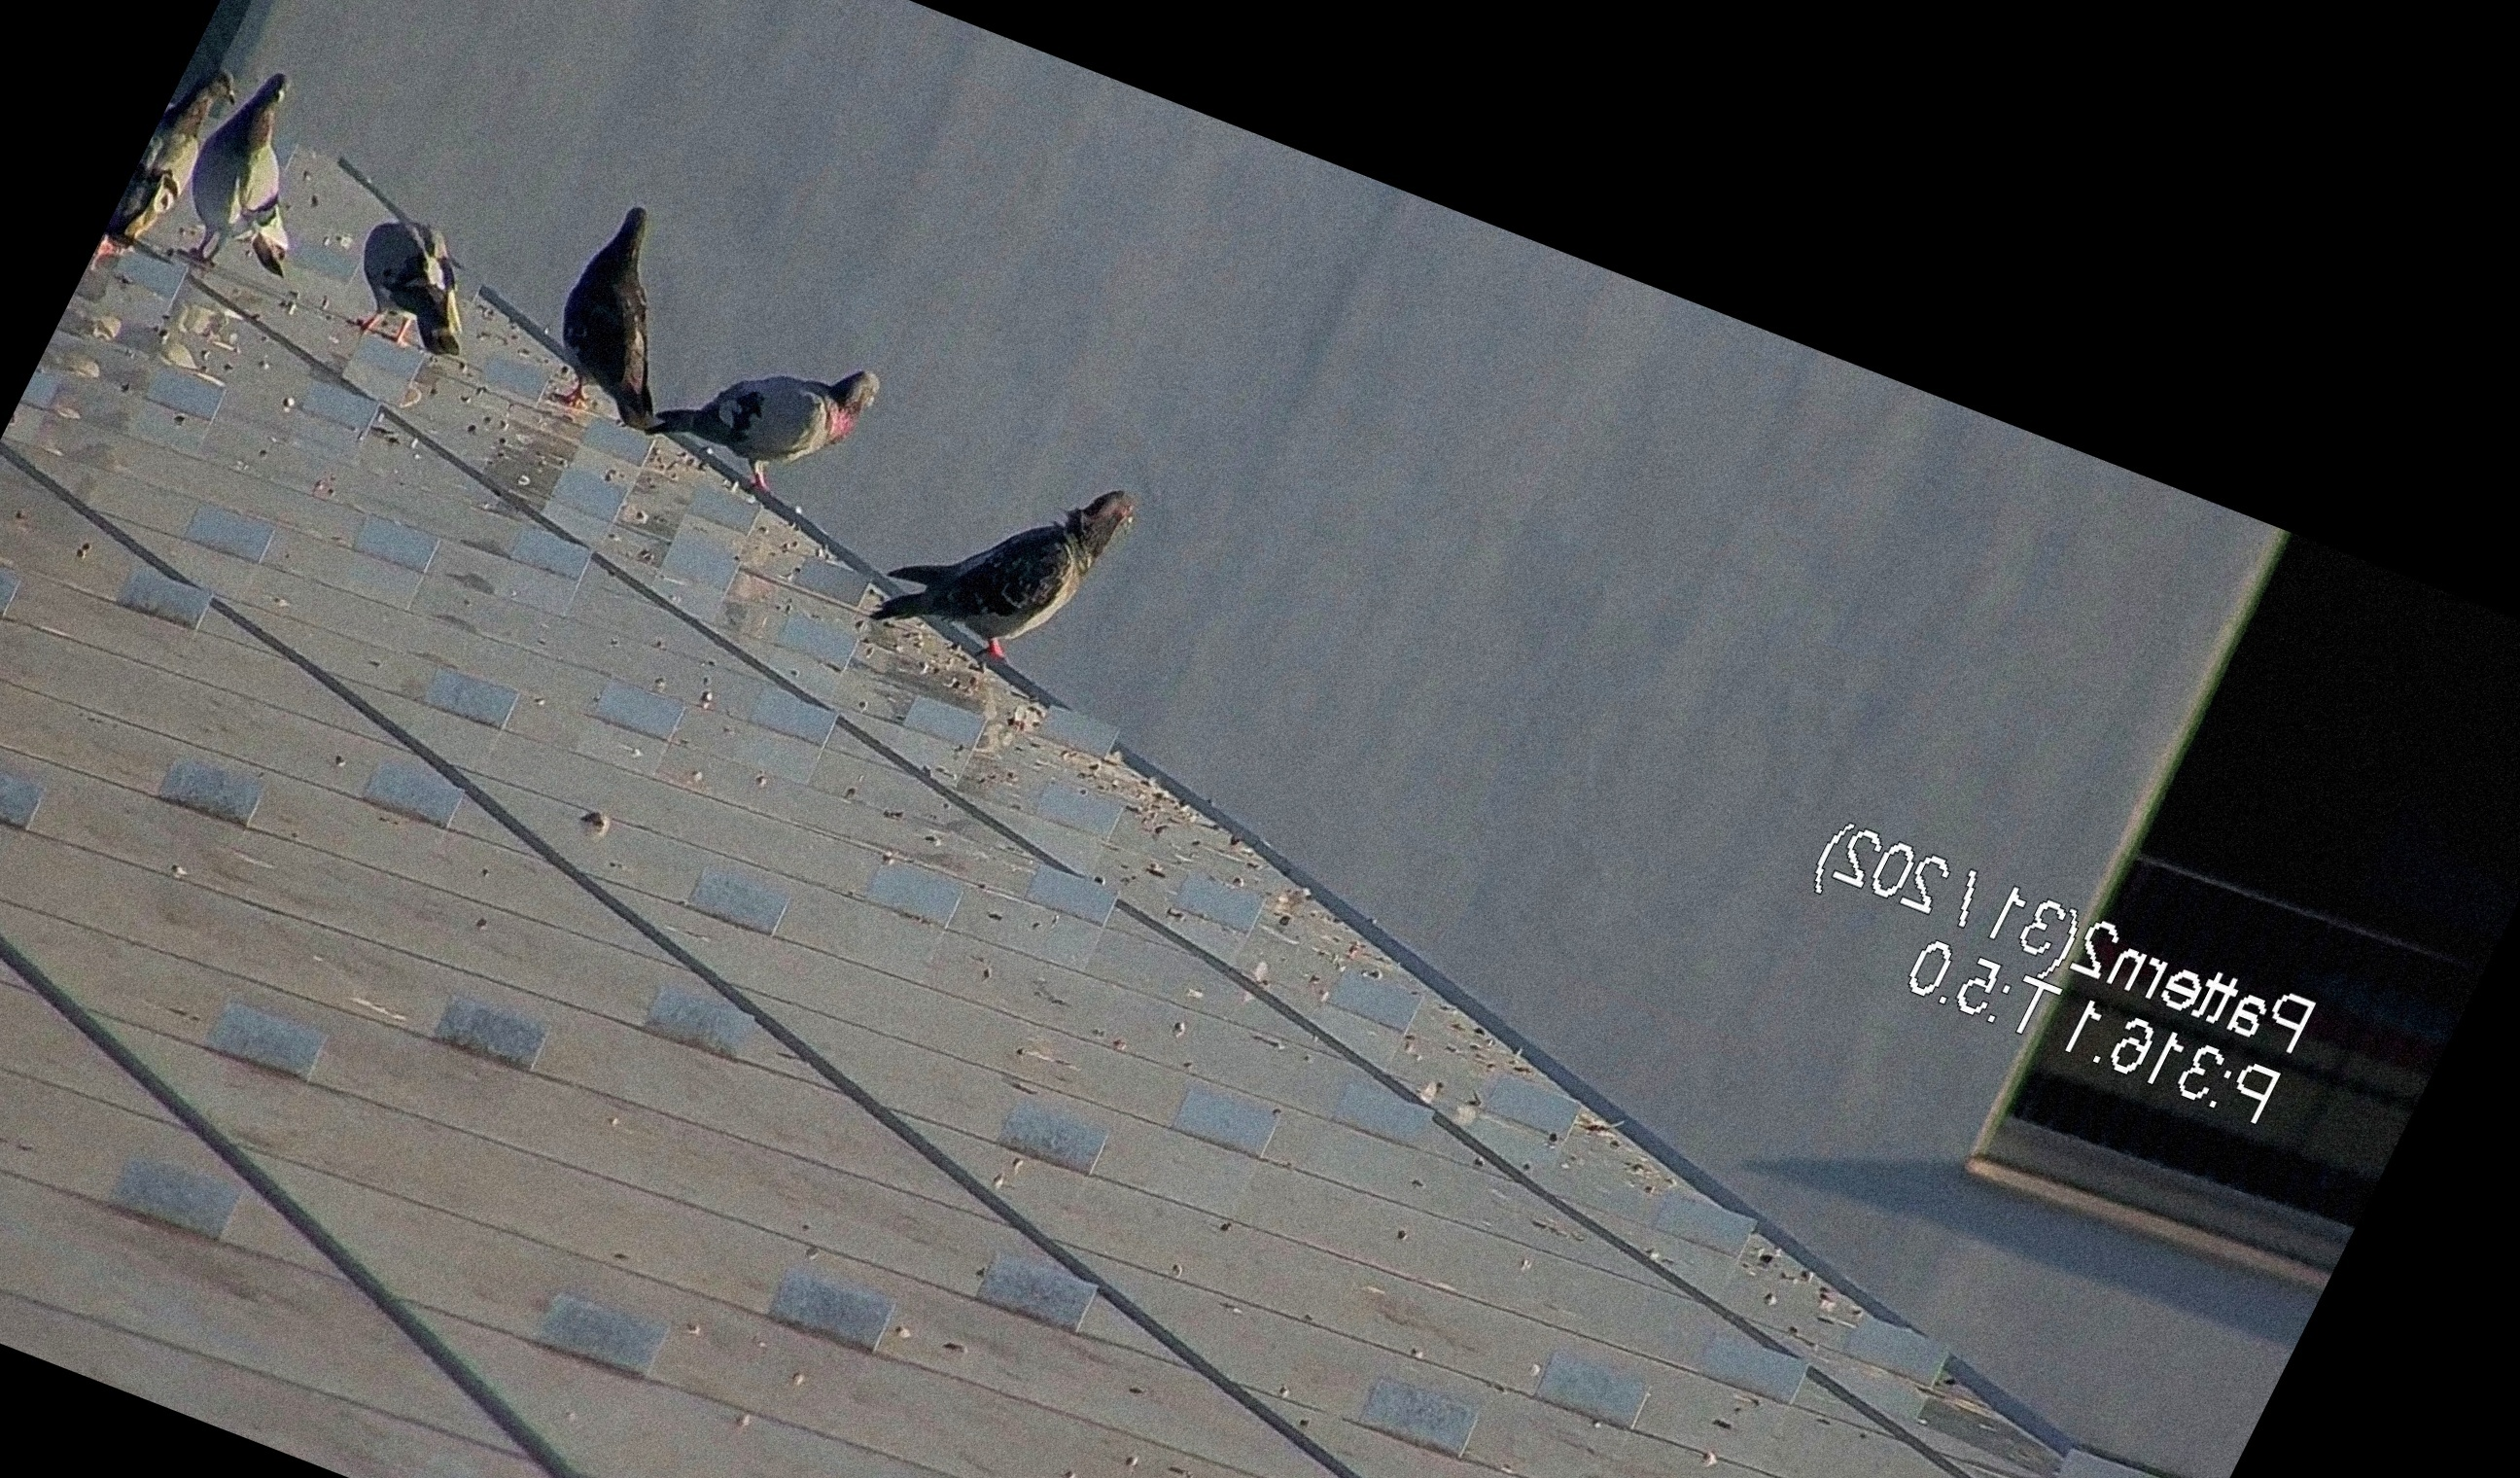Other: (849, 417, 1155, 702), (60, 14, 313, 283), (617, 280, 899, 516), (1686, 338, 1906, 519), (1764, 333, 1903, 510), (1964, 394, 2105, 524)
